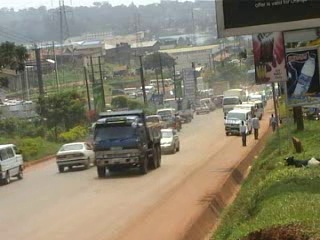Car: (55, 137, 97, 174), (158, 124, 181, 158), (194, 100, 209, 116)
Motorcycle: (172, 112, 185, 133)
